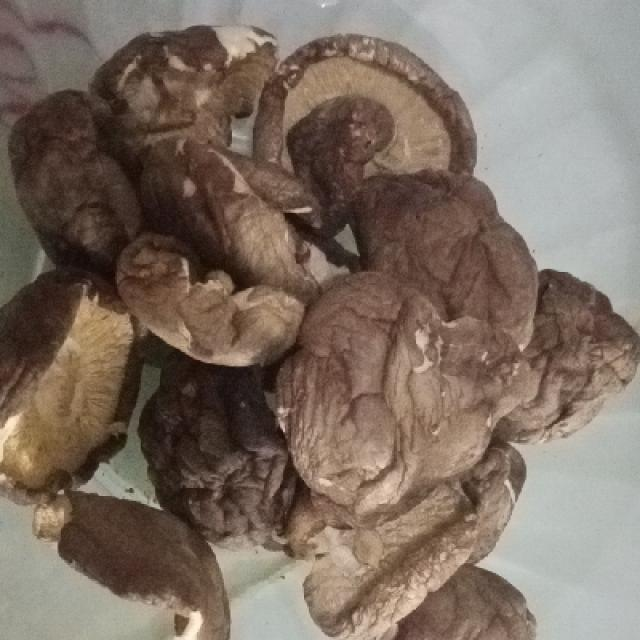Lentinus edodes: (281, 170, 540, 502), (304, 449, 530, 635), (253, 37, 479, 197), (0, 274, 146, 501), (142, 366, 290, 555), (123, 237, 302, 367), (14, 94, 140, 270)
